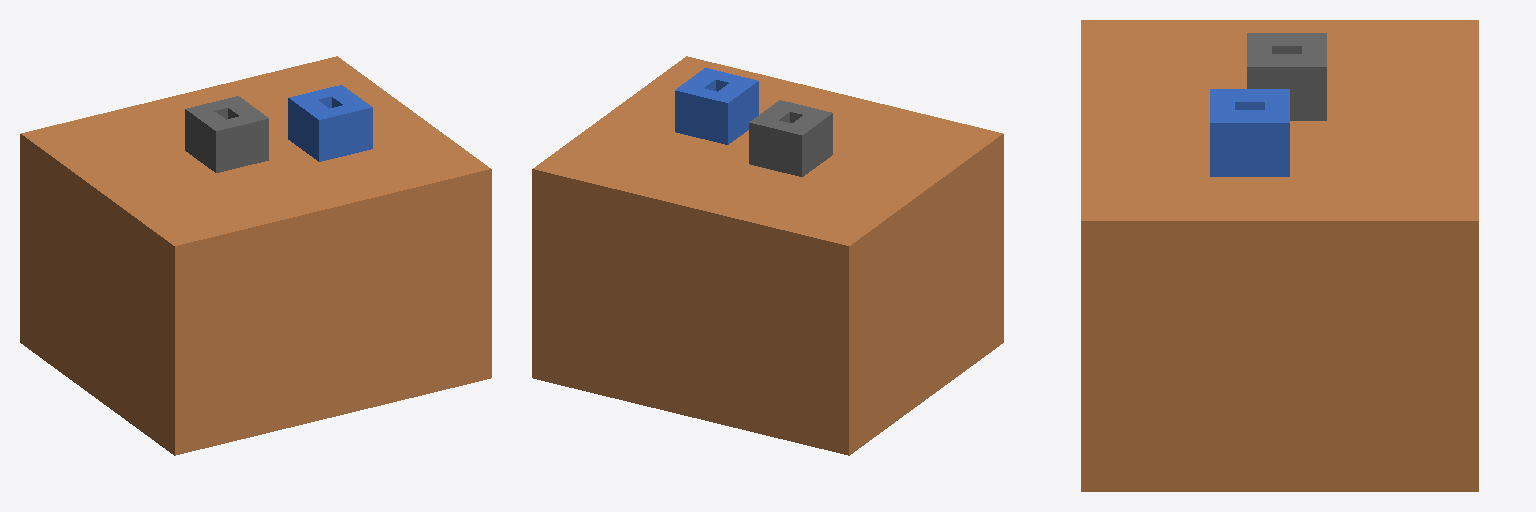
The robot description file, URDF, robot "peg_in_hole_fixtured_scene_0028_peg0008_tol00":
<?xml version="1.0"?>
<robot name="peg_in_hole_fixtured_scene_0028_peg0008_tol00">
  <material name="wood"><color rgba="0.82 0.56 0.35 1.0"/></material>
  <material name="start_fix"><color rgba="0.30 0.50 0.85 1.0"/></material>
  <material name="goal_fix"><color rgba="0.4706 0.4706 0.4706 1.0"/></material>
  <link name="box">
    <visual>
      <origin xyz="0.000000 0.000000 0.000000" rpy="0 0 0"/>
      <geometry><box size="0.475000 0.400000 0.300000"/></geometry>
      <material name="wood"/>
    </visual>
    <collision>
      <origin xyz="0.000000 0.000000 0.000000" rpy="0 0 0"/>
      <geometry><box size="0.475000 0.400000 0.300000"/></geometry>
    </collision>
    <visual>
      <origin xyz="0.094346 -0.030105 0.155000" rpy="0 0 0"/>
      <geometry><box size="0.080000 0.080000 0.010000"/></geometry>
      <material name="start_fix"/>
    </visual>
    <collision>
      <origin xyz="0.094346 -0.030105 0.155000" rpy="0 0 0"/>
      <geometry><box size="0.080000 0.080000 0.010000"/></geometry>
    </collision>
    <visual>
      <origin xyz="0.119596 -0.030105 0.185000" rpy="0 0 0"/>
      <geometry><box size="0.029500 0.080000 0.050000"/></geometry>
      <material name="start_fix"/>
    </visual>
    <collision>
      <origin xyz="0.119596 -0.030105 0.185000" rpy="0 0 0"/>
      <geometry><box size="0.029500 0.080000 0.050000"/></geometry>
    </collision>
    <visual>
      <origin xyz="0.069096 -0.030105 0.185000" rpy="0 0 0"/>
      <geometry><box size="0.029500 0.080000 0.050000"/></geometry>
      <material name="start_fix"/>
    </visual>
    <collision>
      <origin xyz="0.069096 -0.030105 0.185000" rpy="0 0 0"/>
      <geometry><box size="0.029500 0.080000 0.050000"/></geometry>
    </collision>
    <visual>
      <origin xyz="0.094346 -0.002355 0.185000" rpy="0 0 0"/>
      <geometry><box size="0.021000 0.024500 0.050000"/></geometry>
      <material name="start_fix"/>
    </visual>
    <collision>
      <origin xyz="0.094346 -0.002355 0.185000" rpy="0 0 0"/>
      <geometry><box size="0.021000 0.024500 0.050000"/></geometry>
    </collision>
    <visual>
      <origin xyz="0.094346 -0.057855 0.185000" rpy="0 0 0"/>
      <geometry><box size="0.021000 0.024500 0.050000"/></geometry>
      <material name="start_fix"/>
    </visual>
    <collision>
      <origin xyz="0.094346 -0.057855 0.185000" rpy="0 0 0"/>
      <geometry><box size="0.021000 0.024500 0.050000"/></geometry>
    </collision>
    <visual>
      <origin xyz="-0.038840 0.007097 0.155000" rpy="0 0 0"/>
      <geometry><box size="0.080000 0.080000 0.010000"/></geometry>
      <material name="goal_fix"/>
    </visual>
    <collision>
      <origin xyz="-0.038840 0.007097 0.155000" rpy="0 0 0"/>
      <geometry><box size="0.080000 0.080000 0.010000"/></geometry>
    </collision>
    <visual>
      <origin xyz="-0.013755 0.007097 0.185000" rpy="0 0 0"/>
      <geometry><box size="0.029830 0.080000 0.050000"/></geometry>
      <material name="goal_fix"/>
    </visual>
    <collision>
      <origin xyz="-0.013755 0.007097 0.185000" rpy="0 0 0"/>
      <geometry><box size="0.029830 0.080000 0.050000"/></geometry>
    </collision>
    <visual>
      <origin xyz="-0.063925 0.007097 0.185000" rpy="0 0 0"/>
      <geometry><box size="0.029830 0.080000 0.050000"/></geometry>
      <material name="goal_fix"/>
    </visual>
    <collision>
      <origin xyz="-0.063925 0.007097 0.185000" rpy="0 0 0"/>
      <geometry><box size="0.029830 0.080000 0.050000"/></geometry>
    </collision>
    <visual>
      <origin xyz="-0.038840 0.034682 0.185000" rpy="0 0 0"/>
      <geometry><box size="0.020340 0.024830 0.050000"/></geometry>
      <material name="goal_fix"/>
    </visual>
    <collision>
      <origin xyz="-0.038840 0.034682 0.185000" rpy="0 0 0"/>
      <geometry><box size="0.020340 0.024830 0.050000"/></geometry>
    </collision>
    <visual>
      <origin xyz="-0.038840 -0.020488 0.185000" rpy="0 0 0"/>
      <geometry><box size="0.020340 0.024830 0.050000"/></geometry>
      <material name="goal_fix"/>
    </visual>
    <collision>
      <origin xyz="-0.038840 -0.020488 0.185000" rpy="0 0 0"/>
      <geometry><box size="0.020340 0.024830 0.050000"/></geometry>
    </collision>
    <inertial>
      <mass value="500"/>
      <friction value="1.0"/>
      <inertia ixx="1000.0" ixy="0.0" ixz="0.0" iyy="1000.0" iyz="0.0" izz="1000.0"/>
    </inertial>
  </link>
</robot>

--- Facts derived from the render (not from the file) ---
Views: 3 orthographic renders of the robot side by side, from view 1: azimuth 30°, elevation 25°; view 2: azimuth 150°, elevation 25°; view 3: azimuth 270°, elevation 25°.
Model peg_in_hole_fixtured_scene_0028_peg0008_tol00 with 1 links and 0 joints (none), rooted at box, posed all joints at 0.
Visible links, largest first — view 1: box; view 2: box; view 3: box.
Link boxes in pixels (left/top/right/bottom): box: left=20, top=56, right=491, bottom=455; box: left=532, top=56, right=1003, bottom=455; box: left=1081, top=20, right=1478, bottom=491.
Size in the robot's own frame: 0.475 by 0.4 by 0.36 metres.
Geometry: primitives only (box / cylinder / sphere), no mesh files.
